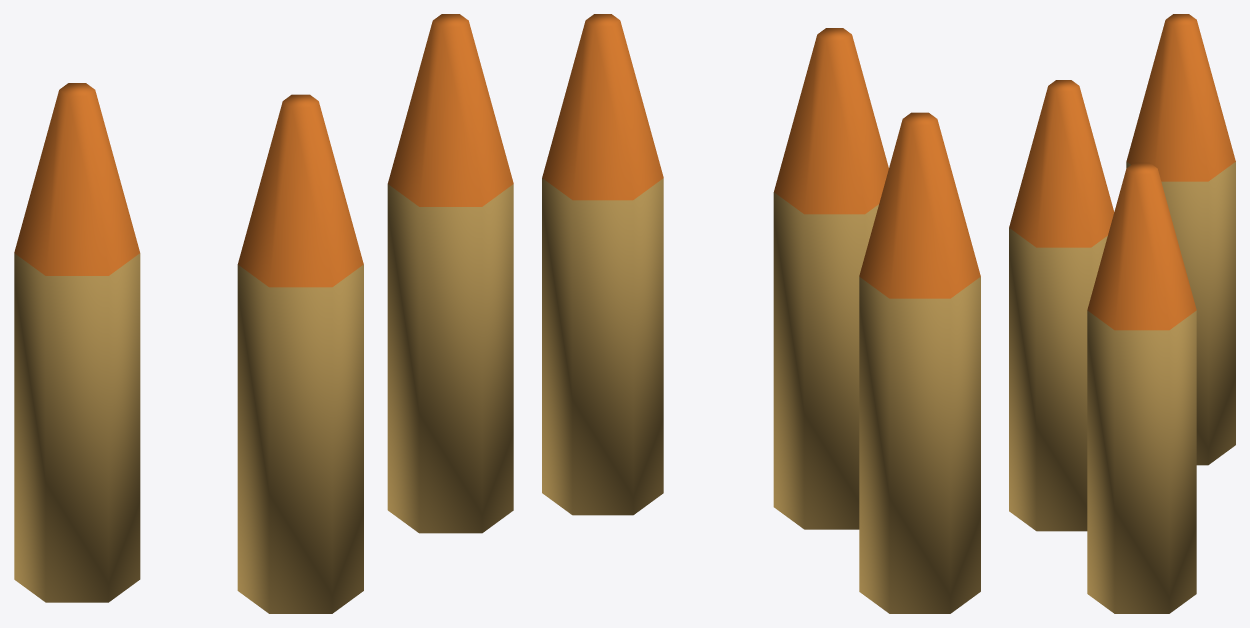
File: rocket_iii.glb
The picture shows the model from 3 angles, left to right: view 1: azimuth 30°, elevation 25°; view 2: azimuth 150°, elevation 25°; view 3: azimuth 270°, elevation 25°; orthographic projection. The views are drawn at different scales.
Parts seen in each view (by area): view 1: rocket_iii_v0; view 2: rocket_iii_v0; view 3: rocket_iii_v0.
Boxes of the visible parts, bbox=[...] form: rocket_iii_v0: bbox=[14, 14, 513, 613]; rocket_iii_v0: bbox=[542, 14, 980, 613]; rocket_iii_v0: bbox=[1009, 14, 1235, 613].
Bounding box in the file's own units: 0.1142 × 0.12 × 0.058.
